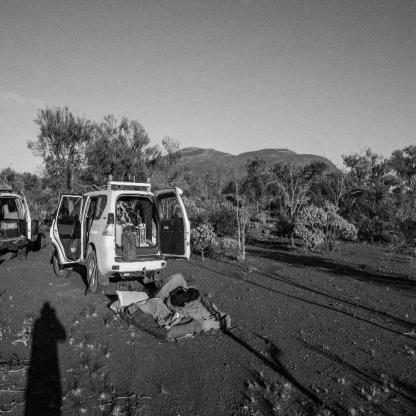car: (33, 173, 194, 287)
